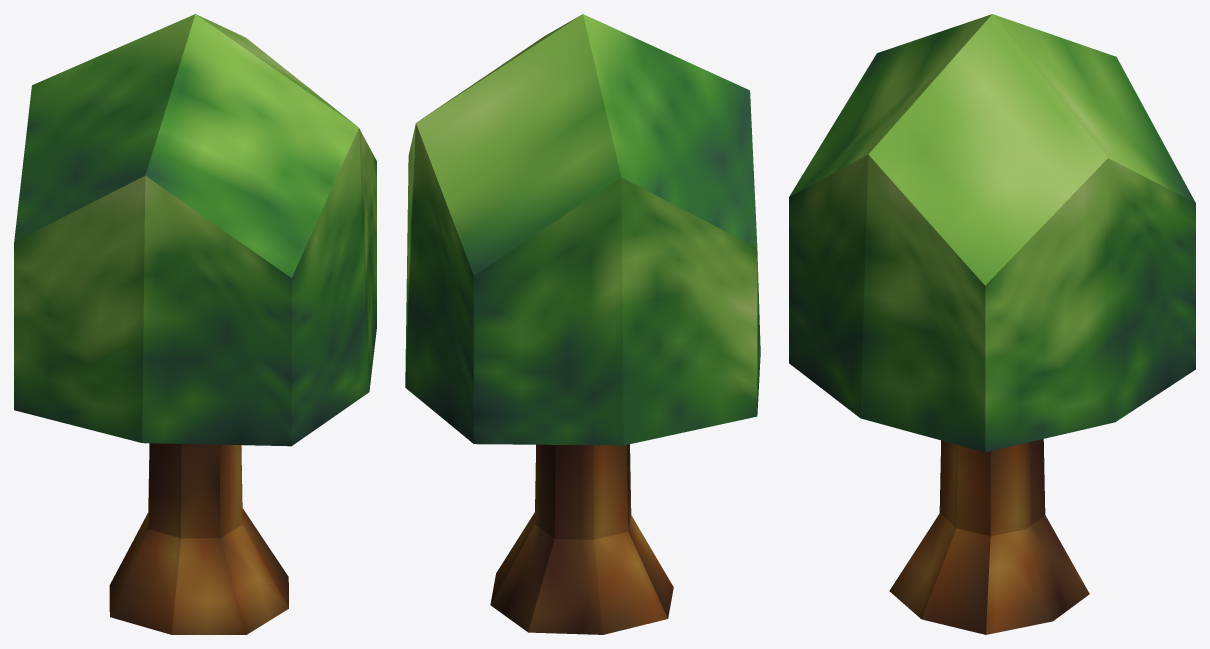
File: Poly_World_Map_Land_Tree_01_Single.obj
3 renders of one model, left to right at view 1: azimuth 30°, elevation 25°; view 2: azimuth 150°, elevation 25°; view 3: azimuth 270°, elevation 25°, orthographic.
Parts seen in each view (by area): view 1: Cube.002_Cube.001, Cube.015_Cube.001; view 2: Cube.002_Cube.001, Cube.015_Cube.001; view 3: Cube.002_Cube.001, Cube.015_Cube.001.
Part boxes in pixels (bbox=[...]): Cube.002_Cube.001: bbox=[14, 14, 376, 446]; Cube.015_Cube.001: bbox=[109, 443, 288, 634]; Cube.002_Cube.001: bbox=[405, 14, 760, 445]; Cube.015_Cube.001: bbox=[490, 444, 673, 634]; Cube.002_Cube.001: bbox=[789, 14, 1195, 452]; Cube.015_Cube.001: bbox=[889, 439, 1089, 634].
Size of the model in its own units: 0.3498 by 0.5481 by 0.3498.
Materials: 1 (1 with a texture image).
